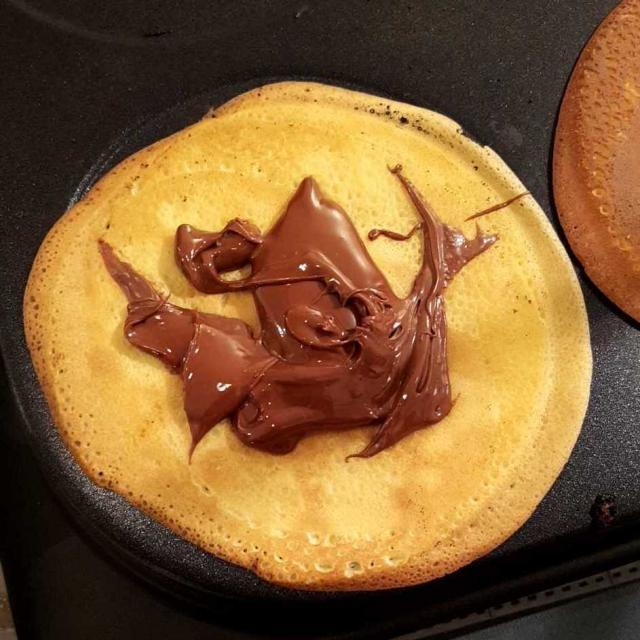crepe: (45, 98, 555, 577)
nutella: (124, 160, 498, 493)
